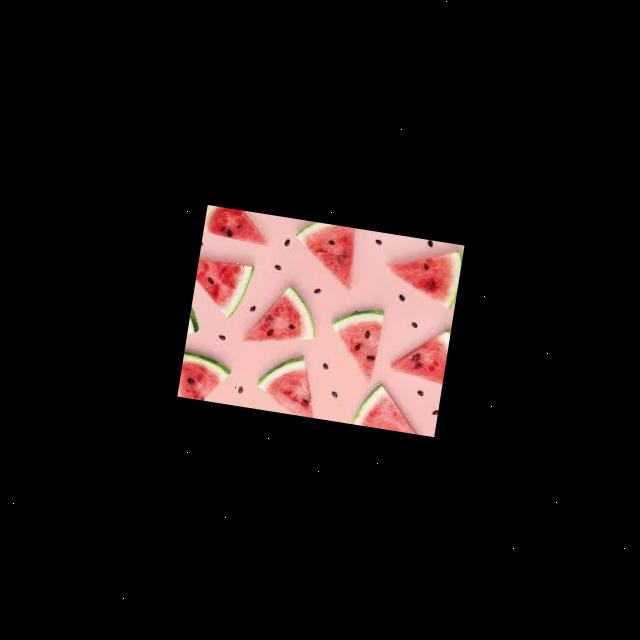watermelon: (241, 278, 323, 350), (386, 240, 463, 312), (287, 218, 359, 290), (322, 302, 386, 382), (252, 348, 321, 417), (190, 256, 253, 320), (388, 320, 451, 383), (351, 379, 422, 434), (205, 204, 273, 247), (176, 351, 232, 402), (186, 306, 202, 336)
